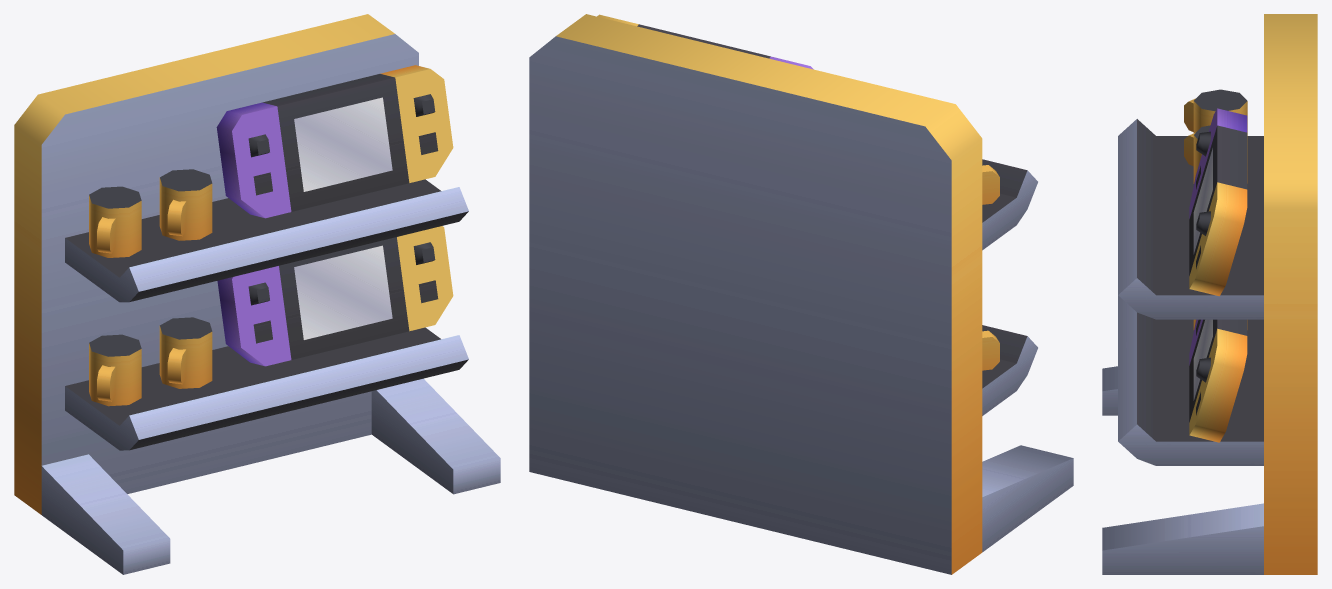
File: prizes.glb
3 renders of one model, left to right at view 1: azimuth 30°, elevation 25°; view 2: azimuth 150°, elevation 25°; view 3: azimuth 270°, elevation 25°, orthographic. The views are drawn at different scales.
Parts seen in each view (by area): view 1: prizes; view 2: prizes; view 3: prizes.
Boxes of the visible parts, bbox=[...] form: prizes: bbox=[14, 14, 500, 574]; prizes: bbox=[529, 14, 1073, 574]; prizes: bbox=[1102, 14, 1317, 574].
Size of the model in its own units: 0.8 by 0.8 by 0.3999.
1 material, 1 textured.
